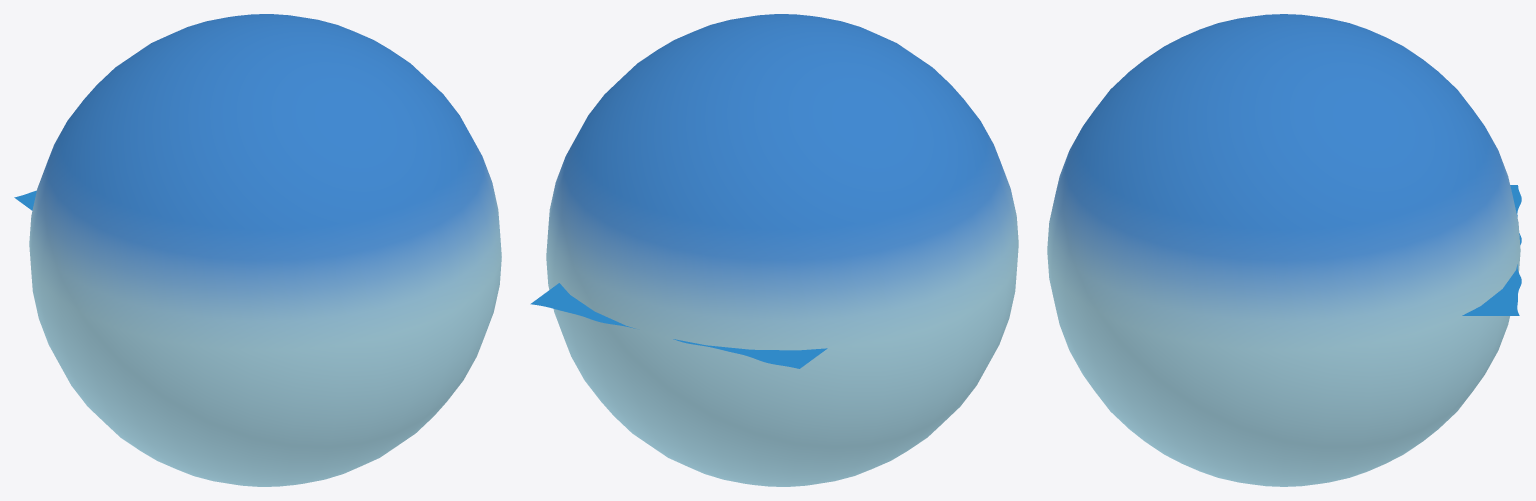
The model's file is vinh-nang-_KQ4cy8g.glb.
The picture shows the model from 3 angles, left to right: view 1: azimuth 30°, elevation 25°; view 2: azimuth 150°, elevation 25°; view 3: azimuth 270°, elevation 25°; orthographic projection.
Parts seen in each view (by area): view 1: SkyDome; view 2: SkyDome, Sea; view 3: SkyDome, Sea.
Boxes of the visible parts, x1,y1,x2,y2 form: SkyDome: [29, 14, 501, 486]; SkyDome: [546, 14, 1018, 486]; Sea: [530, 283, 827, 368]; SkyDome: [1047, 14, 1520, 486]; Sea: [1462, 185, 1521, 315].
Bounding box in the file's own units: 168 × 168 × 168.
